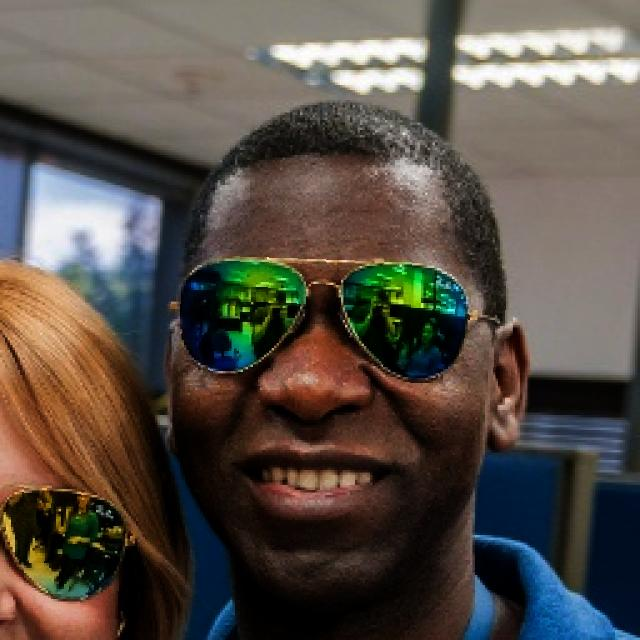glasses: (164, 250, 514, 392), (0, 474, 160, 619)
